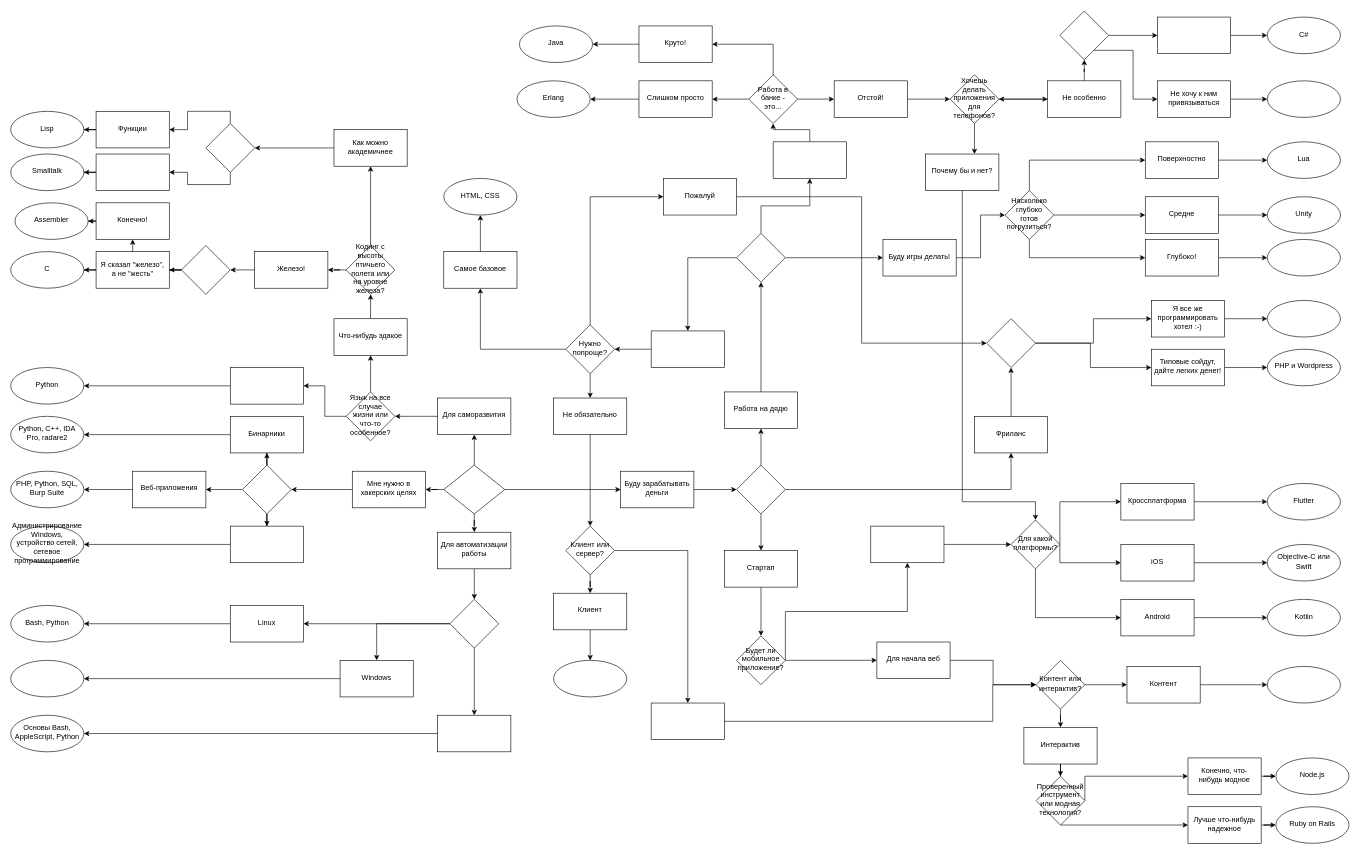
Image size: 1360x854. Some labels were removed from this diagram. Here are the shapes that lost their labels. From the top down, the box of each, then its label:
(1059, 10, 1109, 60): Любишь технологии Microsoft?
(1157, 16, 1231, 54): Я не против
(1267, 80, 1340, 117): C++
(205, 123, 255, 172): Объекты или функции?
(773, 141, 846, 178): Обычные программы
(95, 153, 169, 191): Объекты
(181, 245, 230, 294): Ты уверен? Терпения хватит?
(736, 233, 785, 282): Веб, обычный софт или игры?
(1267, 239, 1340, 276): C++ и OpenGL или DirectX
(1267, 300, 1340, 337): PHP, Yii или Laravel
(651, 330, 724, 368): Попробую веб
(986, 318, 1035, 368): Типовые проекты или что-то другое?
(230, 367, 303, 404): Универсальный
(242, 465, 291, 514): Что будем взламывать?
(443, 465, 505, 514): Почему ты хочешь учиться программировать?
(736, 465, 785, 514): Работа в компании, фриланс или свой стартап?
(230, 526, 303, 563): Инфораструктура компаний
(870, 526, 944, 563): Это главное
(449, 599, 499, 648): Твоя система?
(10, 660, 84, 697): Powershell
(553, 660, 627, 697): JavaScript, Angular, Vue или React
(1267, 666, 1340, 703): Python и Django
(437, 715, 511, 752): OS X
(651, 702, 724, 740): Сервер
